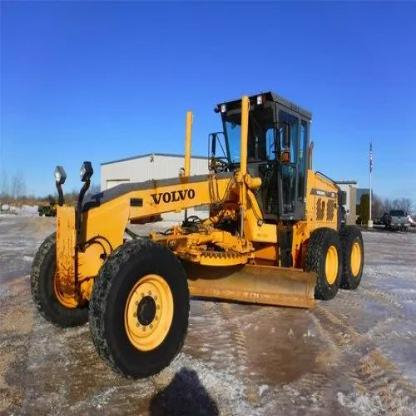bull_dozer/loader/grader: (22, 85, 368, 374)
